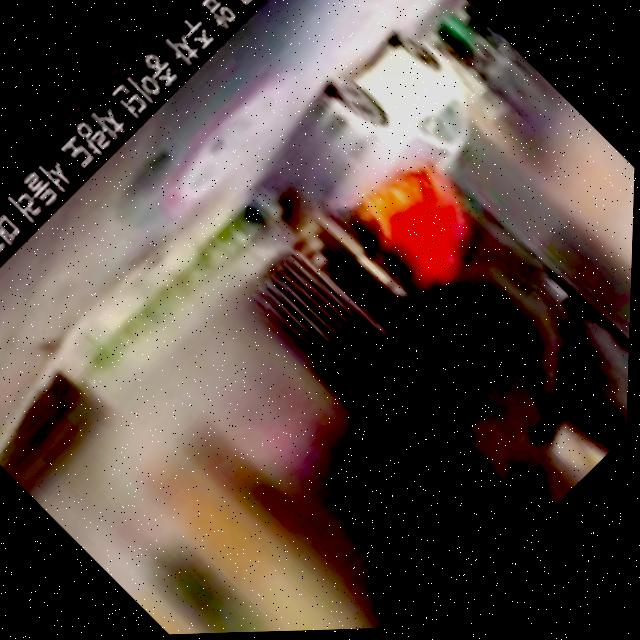Fire: (357, 160, 485, 288)
Smoke: (336, 214, 635, 565)
